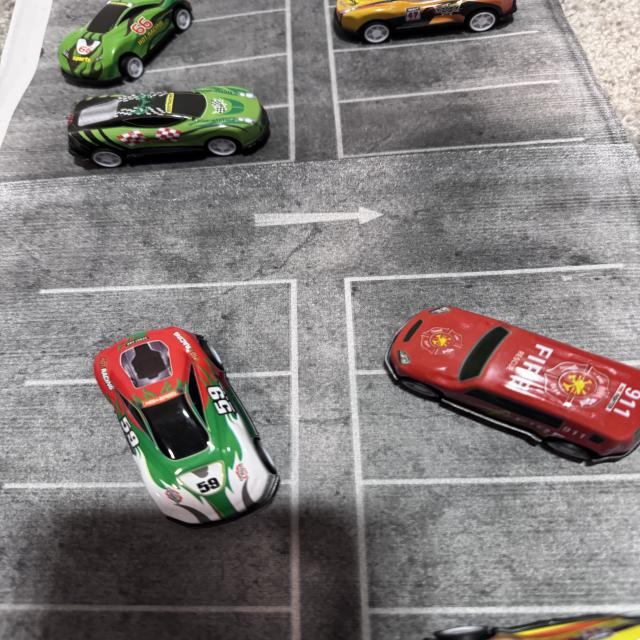car: (312, 248, 640, 458), (58, 305, 284, 543), (57, 90, 286, 242), (277, 0, 544, 66), (16, 0, 184, 101)
